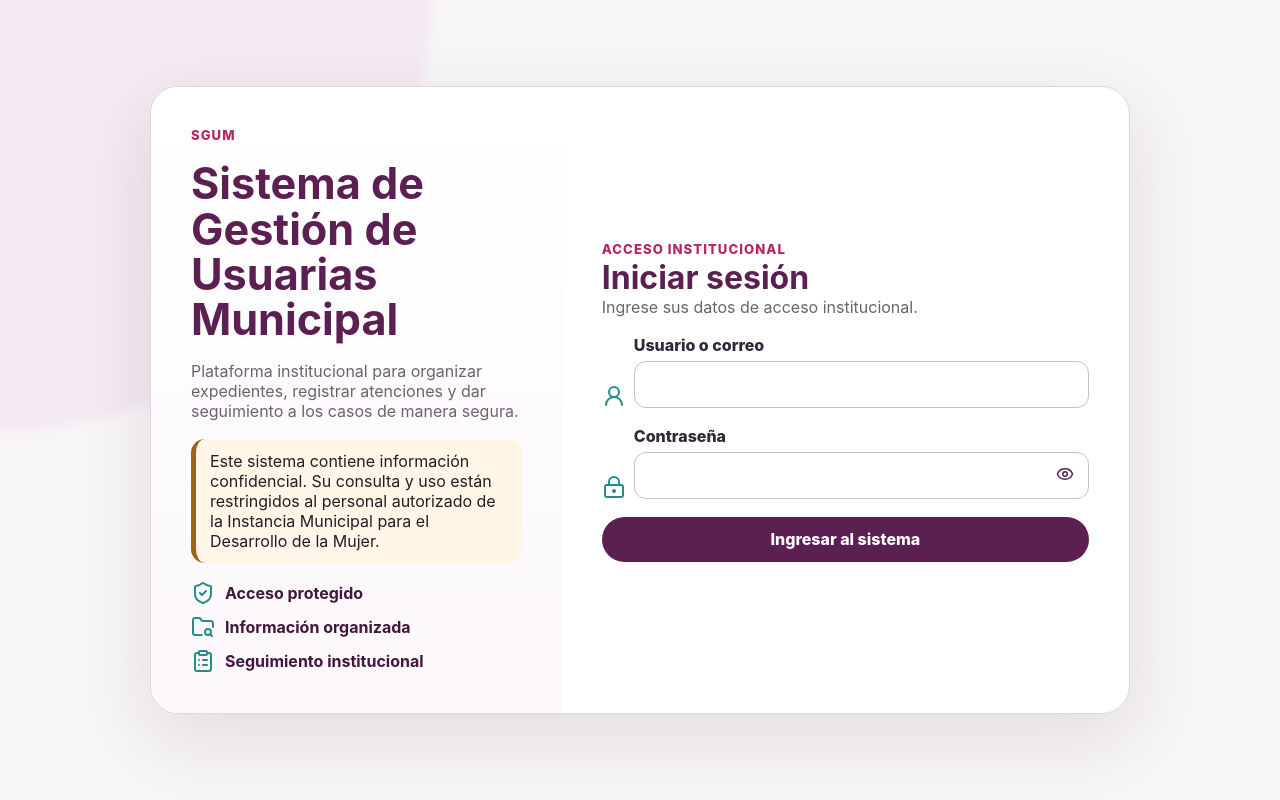
autenticación y rutas › valida el formulario de inicio de sesión
Click the button "Ingresar al sistema" at (845,539), box x1=602 y1=517 x2=1089 y2=562
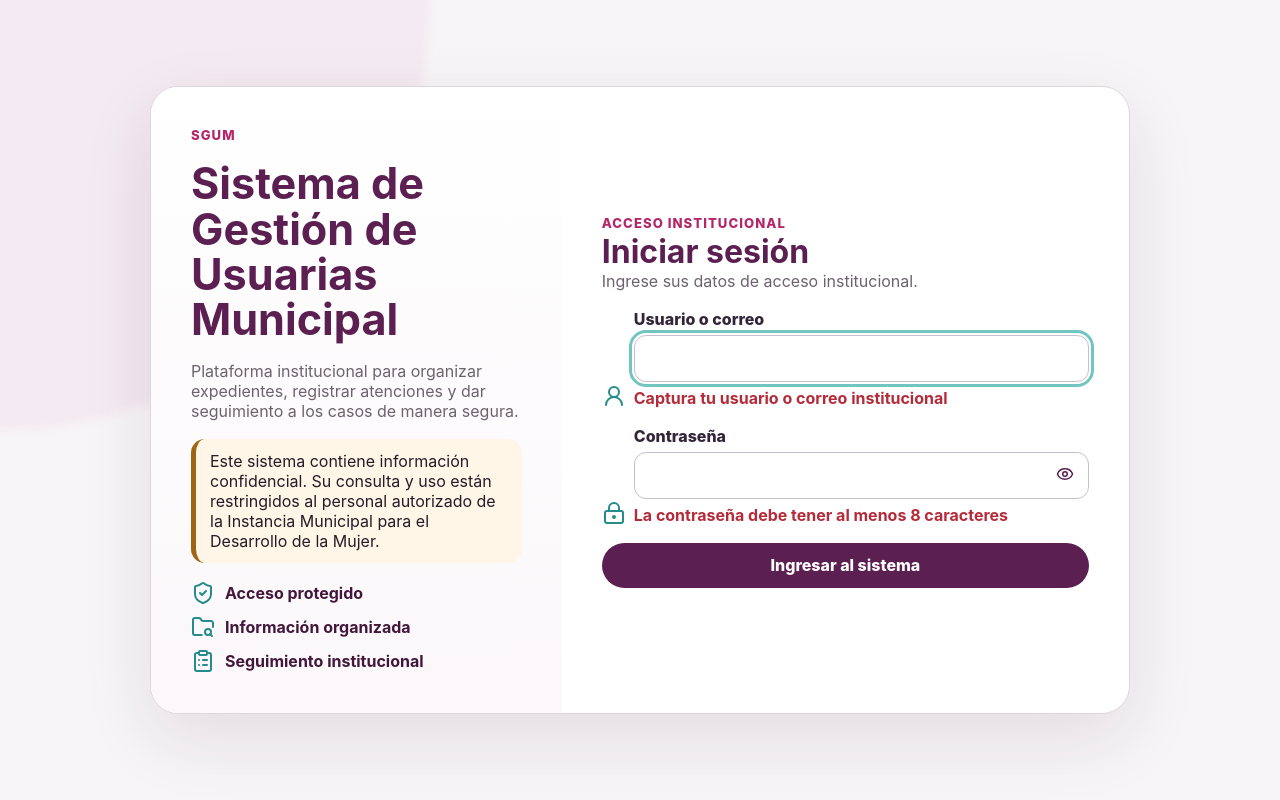
Check: the text "Captura tu usuario o correo institucional" is shown, box x1=634 y1=388 x2=948 y2=408
Check: the text "La contraseña debe tener al menos 8 caracteres" is shown, box x1=634 y1=505 x2=1008 y2=525
